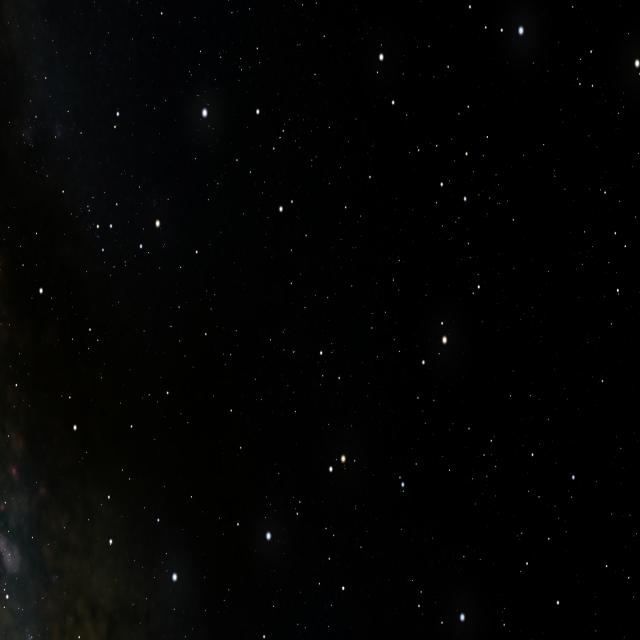Serpens: (386, 131, 484, 504)
